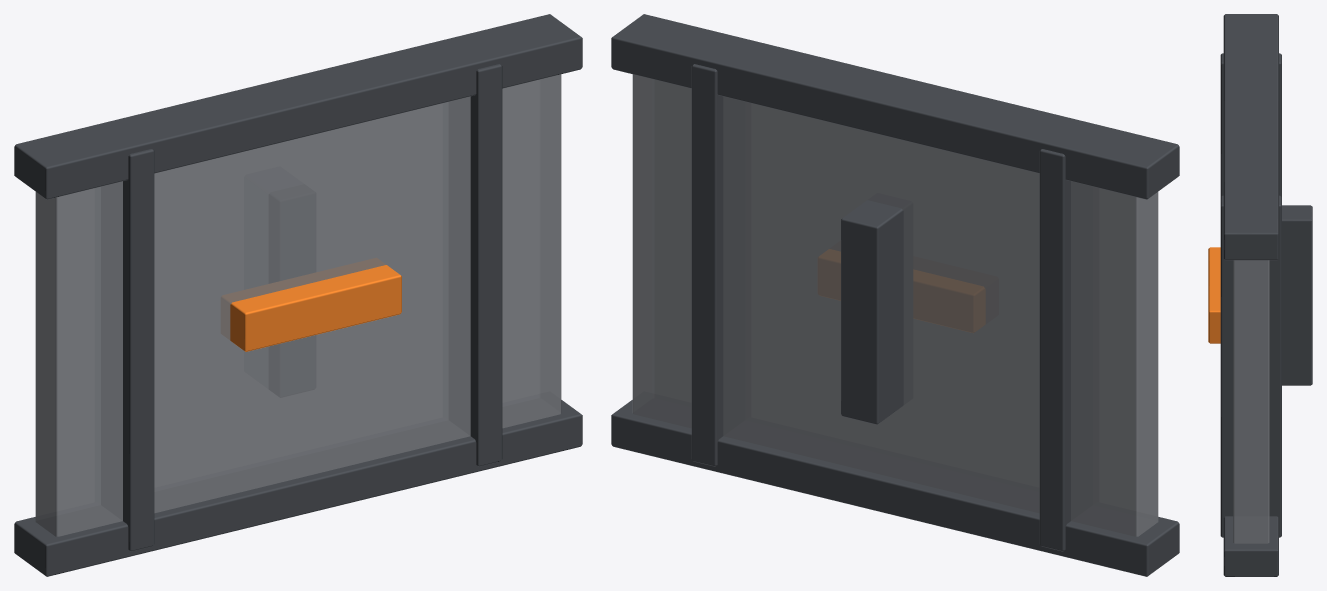
The model's file is rock_bulwark.glb.
The picture shows the model from 3 angles, left to right: view 1: azimuth 30°, elevation 25°; view 2: azimuth 150°, elevation 25°; view 3: azimuth 270°, elevation 25°; orthographic projection. The views are drawn at different scales.
Visible parts, largest first — view 1: slab, frame_top, frame_bottom, rib_0, rib_1, emblem, handle_mount; view 2: slab, frame_top, frame_bottom, handle_mount, rib_1, rib_0, emblem; view 3: frame_top, slab, rib_1, handle_mount, frame_bottom, emblem, rib_0.
Part boxes in pixels (<box>): slab: <box>35,74,561,536</box>; frame_top: <box>14,14,582,199</box>; frame_bottom: <box>14,399,582,576</box>; rib_0: <box>101,149,154,551</box>; rib_1: <box>449,64,502,466</box>; emblem: <box>221,259,401,351</box>; handle_mount: <box>269,188,314,397</box>; slab: <box>632,74,1158,536</box>; frame_top: <box>611,14,1179,199</box>; frame_bottom: <box>611,400,1179,576</box>; handle_mount: <box>841,194,912,424</box>; rib_1: <box>691,64,744,466</box>; rib_0: <box>1039,149,1092,551</box>; emblem: <box>831,260,984,331</box>; frame_top: <box>1223,14,1278,260</box>; slab: <box>1233,260,1269,543</box>; rib_1: <box>1220,195,1281,537</box>; handle_mount: <box>1282,205,1312,385</box>; frame_bottom: <box>1223,516,1278,576</box>; emblem: <box>1208,247,1220,343</box>; rib_0: <box>1220,53,1281,196</box>.
Size of the model in its own units: 1.7 by 1.24 by 0.34.
